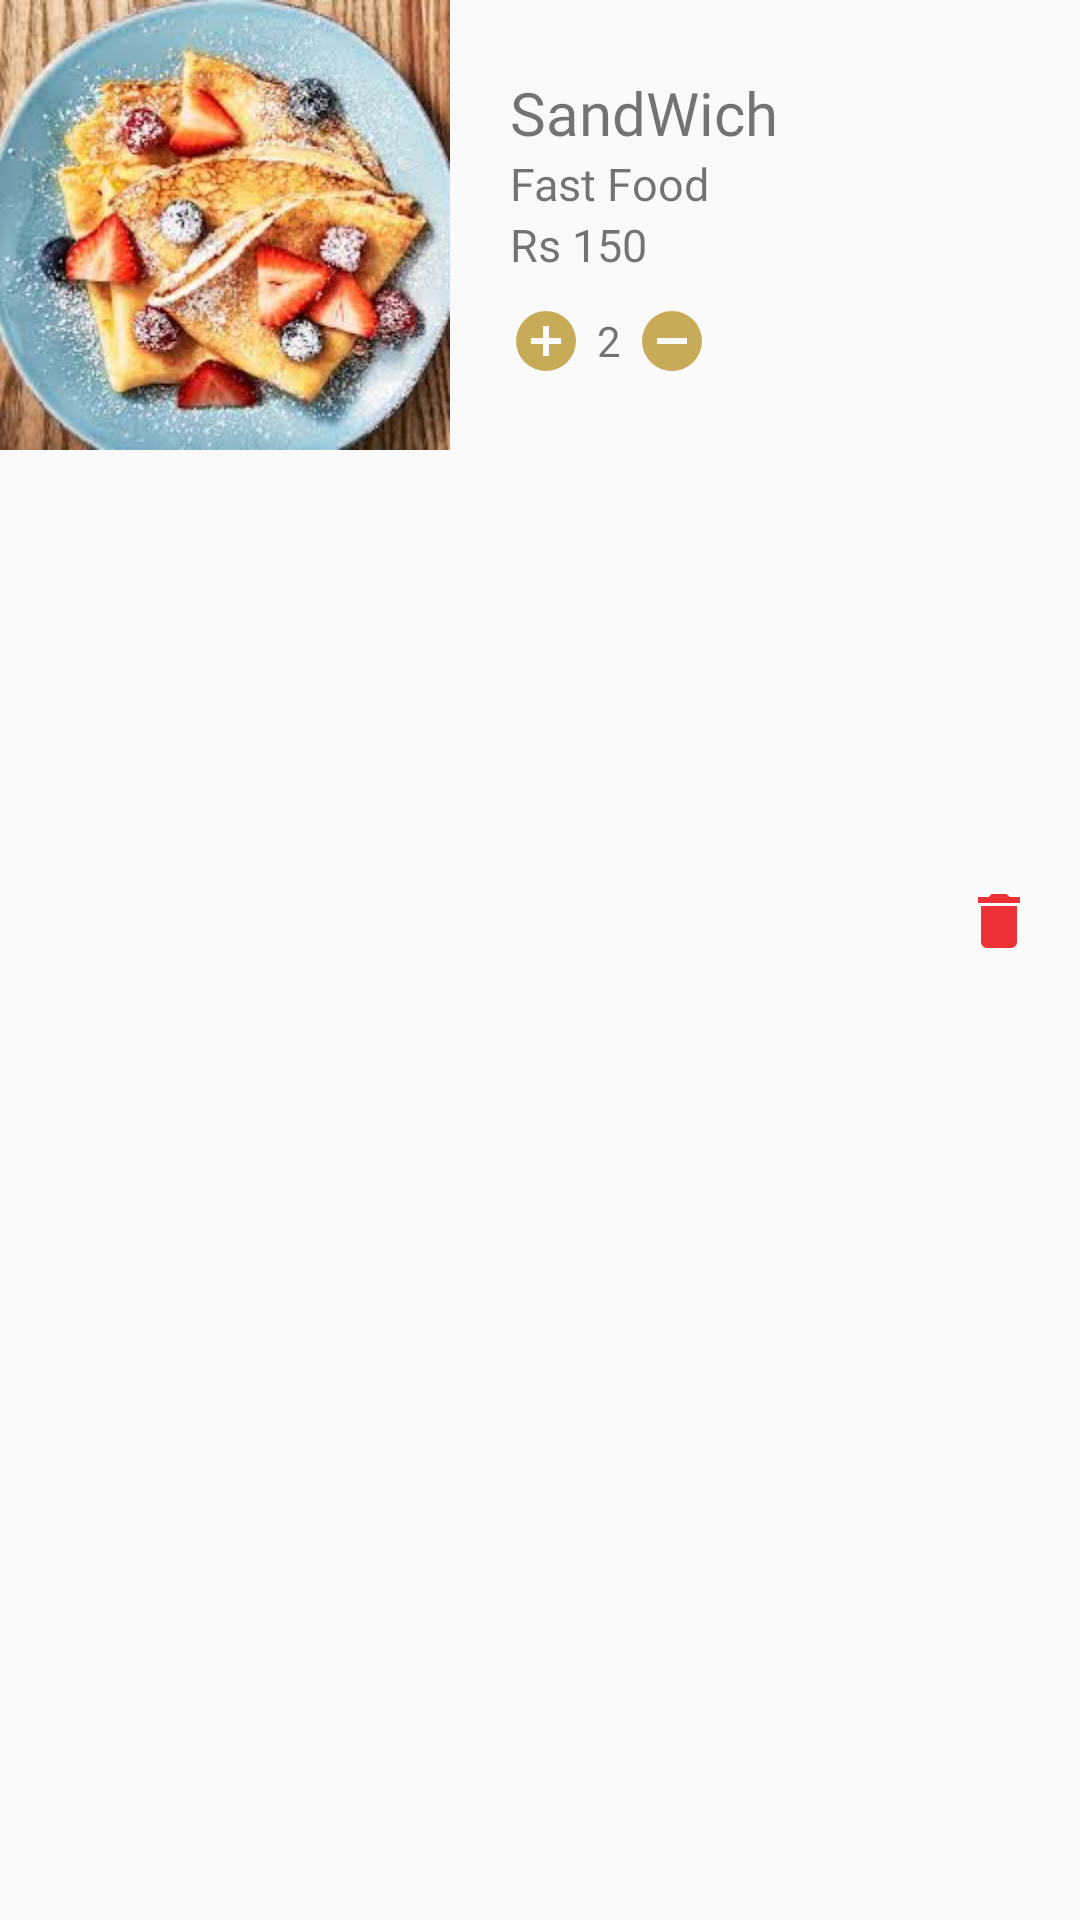

Locate icon controls on the screen. Image size 1080w x 1920h, boxes as (x1, y1, x2, y2).
delete: (978, 894, 1020, 948)
minus circle: (642, 311, 702, 371)
plus circle: (516, 311, 576, 371)
